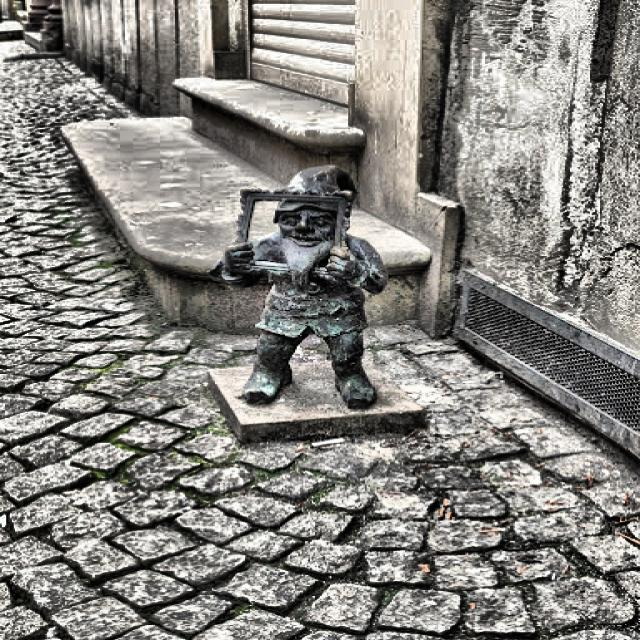Galeriusz: (212, 165, 387, 408)
